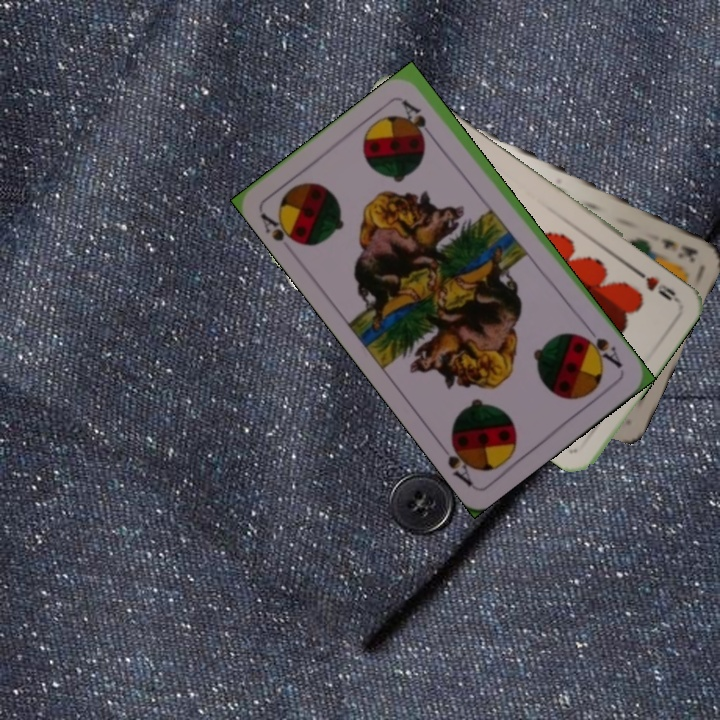EK: (658, 234, 701, 262)
H9: (628, 264, 680, 304)
SA: (256, 206, 308, 249), (577, 330, 625, 371)
